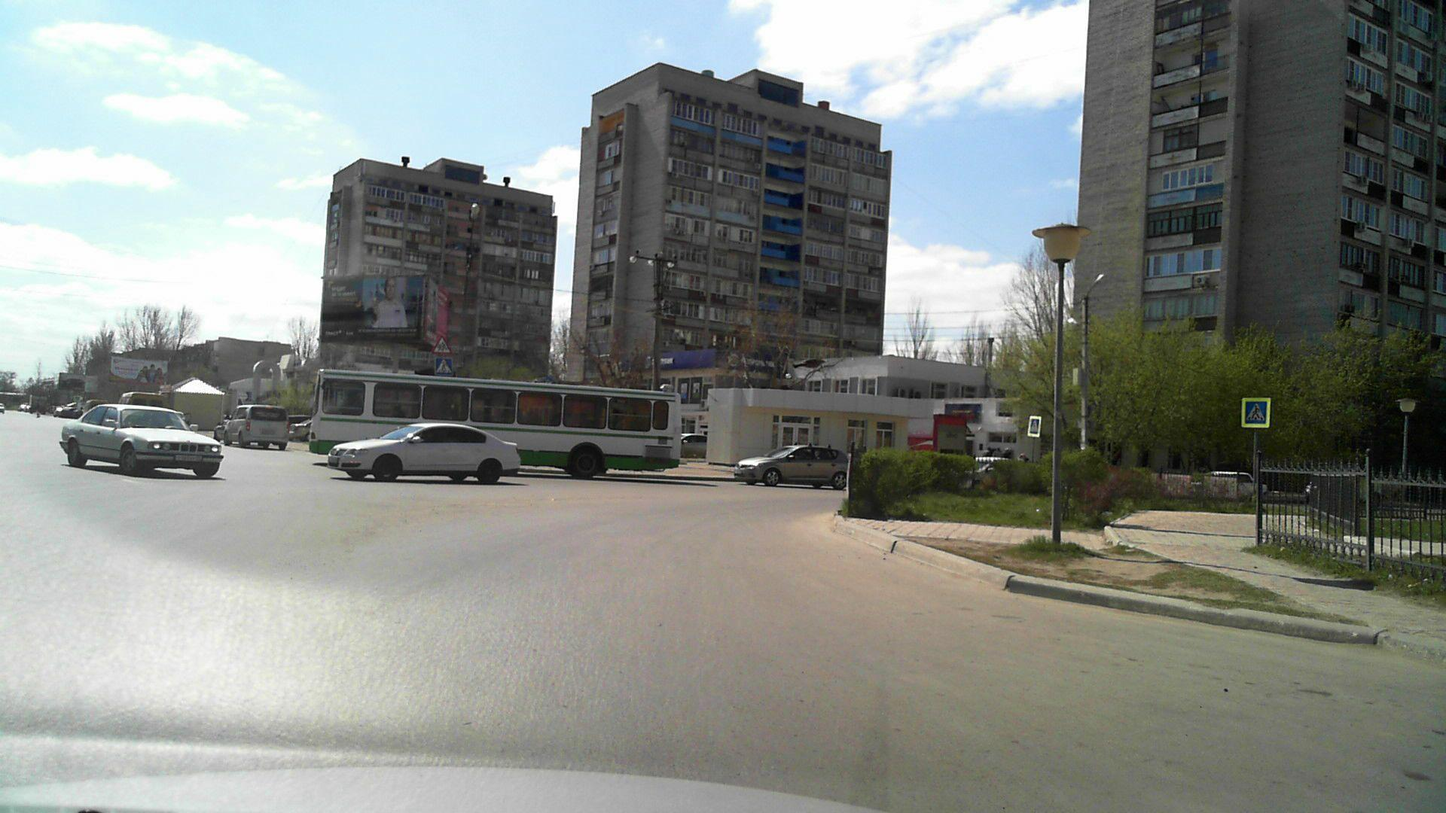road_sign: (1240, 397, 1272, 429), (430, 334, 454, 355), (1027, 415, 1043, 438), (435, 358, 454, 377)
